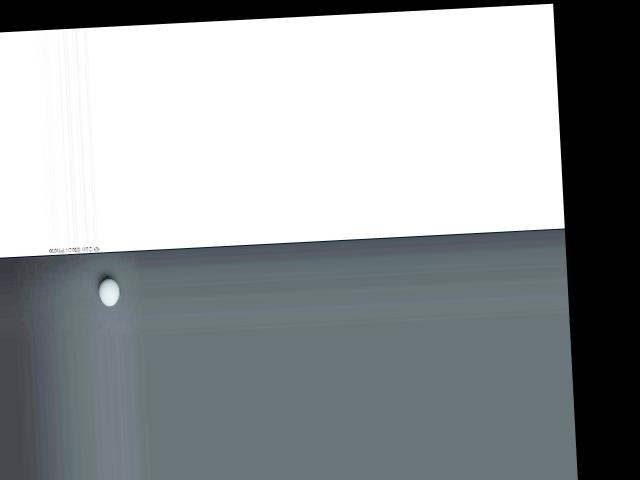egg: (98, 278, 120, 306)
